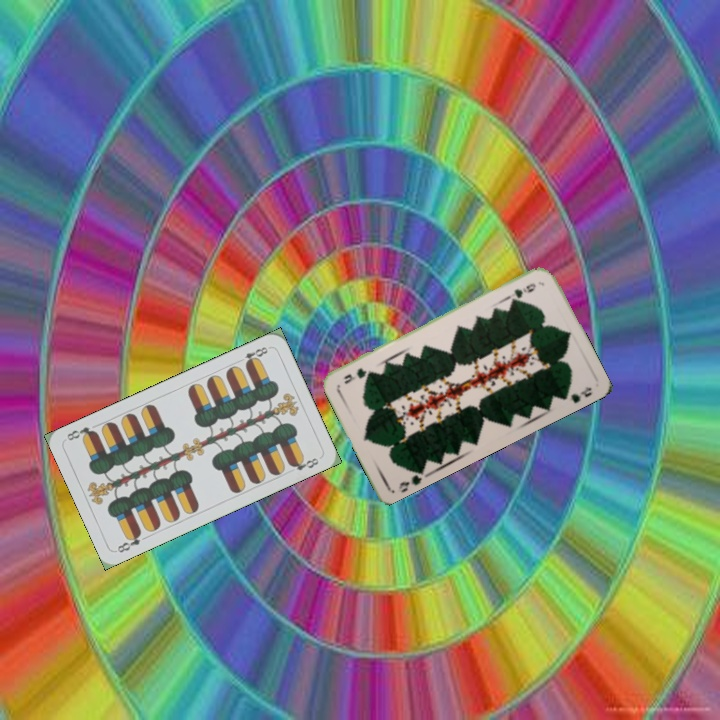E8: (233, 343, 272, 368), (113, 527, 144, 555)
G9: (395, 465, 426, 494), (510, 279, 538, 300)
